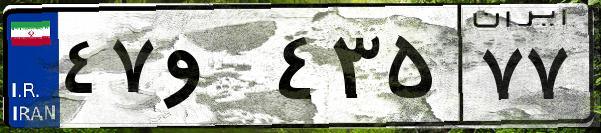3: (330, 28, 385, 110)
4: (270, 28, 330, 110), (57, 26, 110, 100)
5: (385, 28, 445, 110)
7: (475, 38, 525, 113), (525, 38, 570, 115), (110, 28, 158, 98)
و: (158, 20, 270, 120)
